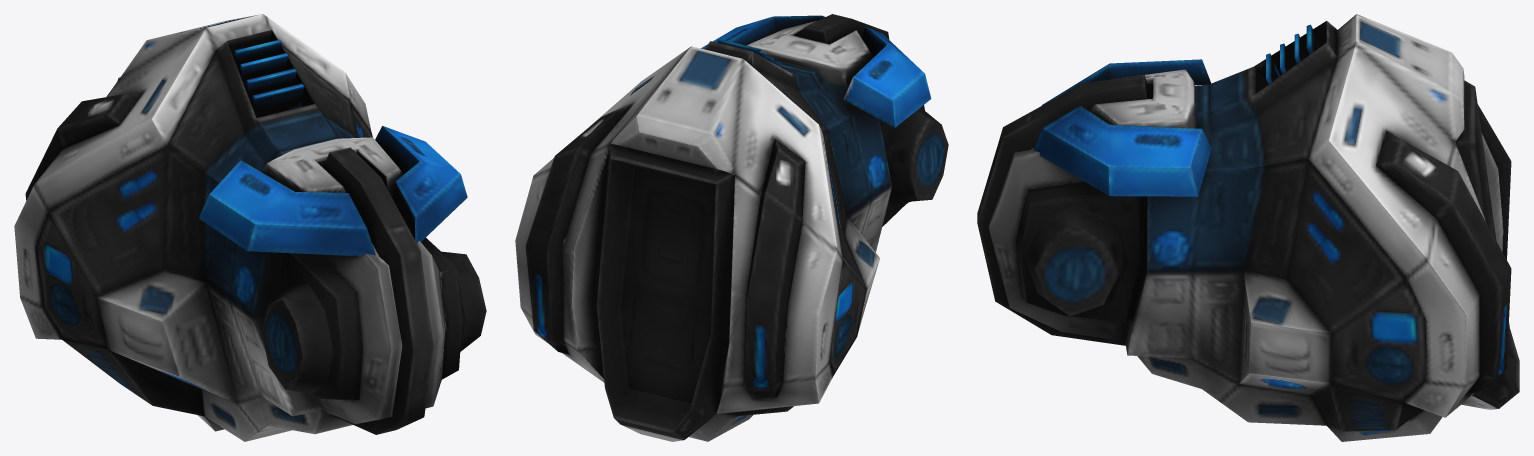
File: PBR_HP_Mesh_Body1.fbx
3 renders of one model, left to right at view 1: azimuth 30°, elevation 25°; view 2: azimuth 150°, elevation 25°; view 3: azimuth 270°, elevation 25°, orthographic. The views are drawn at different scales.
Visible parts, largest first — view 1: Body1; view 2: Body1; view 3: Body1.
Boxes of the visible parts, x1,y1,x2,y2 form: Body1: [14, 14, 486, 441]; Body1: [515, 14, 948, 441]; Body1: [977, 14, 1519, 441].
Size of the model in its own units: 55.5 by 63.83 by 78.26.
